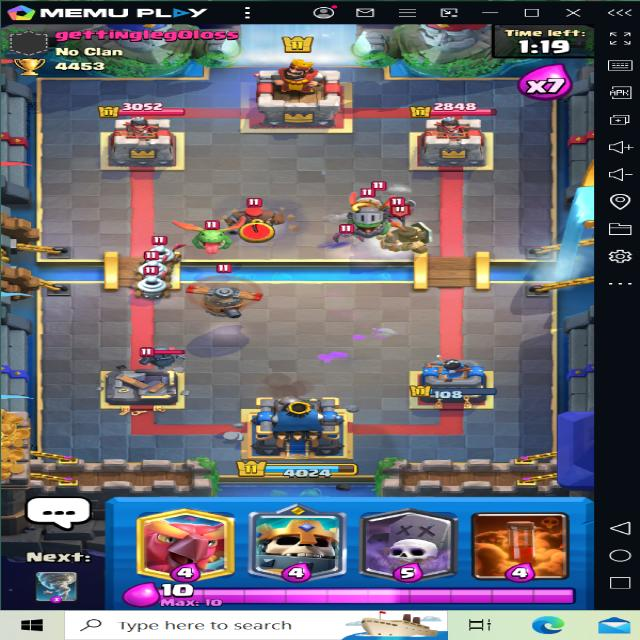Babydragon: (180, 220, 248, 253)
Bat: (326, 223, 371, 244)
Darkprince: (374, 207, 432, 256)
Flyingmachine: (180, 262, 276, 322)
Infernodragon: (341, 184, 393, 236)
Minipekka: (136, 339, 188, 369)
Zappies: (134, 267, 171, 296), (141, 238, 182, 264), (137, 248, 172, 277)
hunter: (222, 194, 284, 233)
